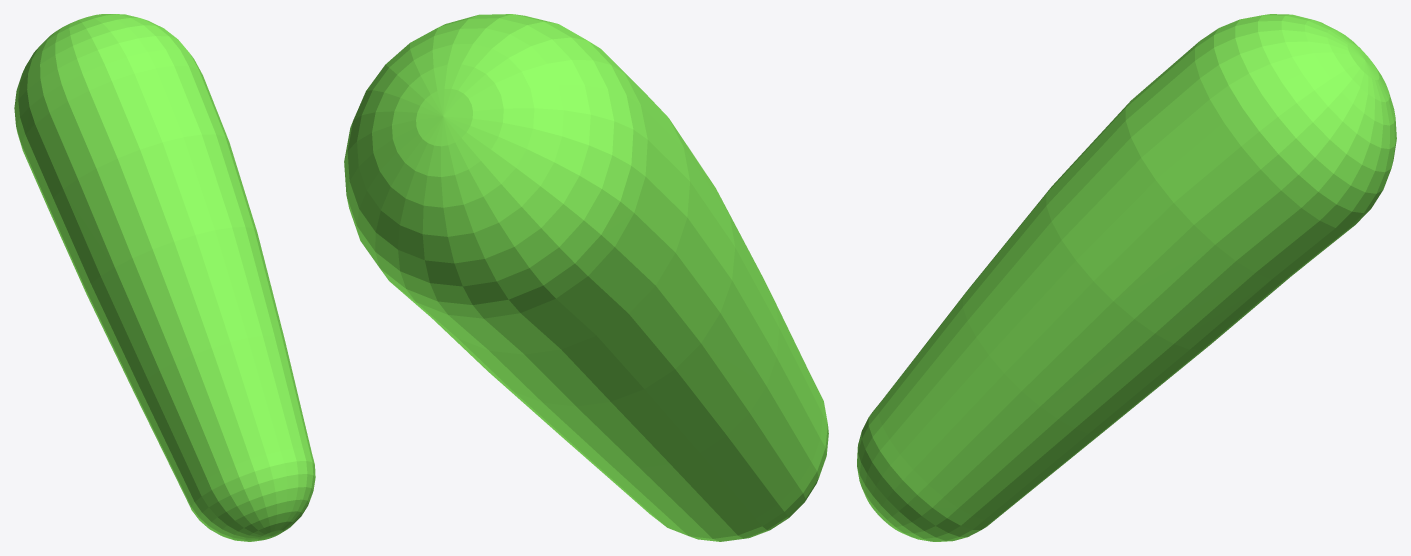
File: Peridot brazo izquierdo.obj
3 renders of one model, left to right at view 1: azimuth 30°, elevation 25°; view 2: azimuth 150°, elevation 25°; view 3: azimuth 270°, elevation 25°, orthographic. The views are drawn at different scales.
Parts seen in each view (by area): view 1: Brazo_izquierdo; view 2: Brazo_izquierdo; view 3: Brazo_izquierdo.
Part boxes in pixels (bbox=[...]): Brazo_izquierdo: bbox=[14, 14, 315, 541]; Brazo_izquierdo: bbox=[344, 14, 828, 541]; Brazo_izquierdo: bbox=[857, 14, 1396, 541].
Bounding box in the file's own units: 0.6452 × 1.5 × 1.44.
